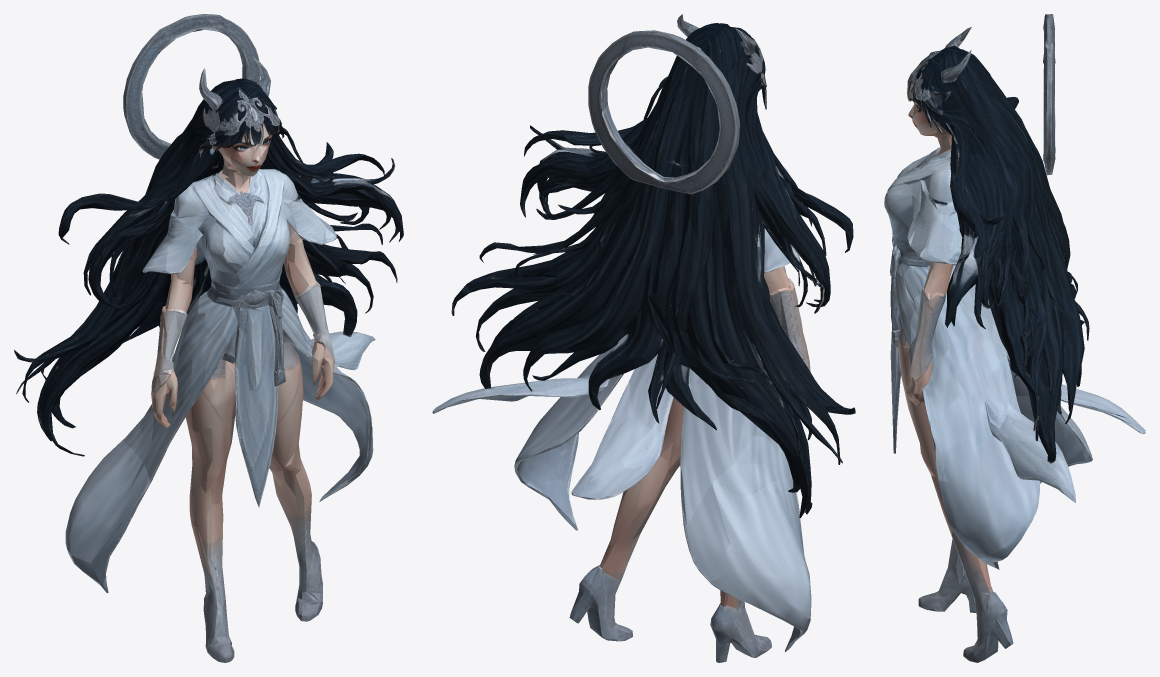
File: mayari.glb
3 renders of one model, left to right at view 1: azimuth 30°, elevation 25°; view 2: azimuth 150°, elevation 25°; view 3: azimuth 270°, elevation 25°, orthographic. The views are drawn at different scales.
Visible parts, largest first — view 1: mesh_node; view 2: mesh_node; view 3: mesh_node.
Part boxes in pixels (x1,y1,x2,y2): mesh_node: [14, 14, 403, 662]; mesh_node: [432, 14, 855, 662]; mesh_node: [884, 14, 1145, 662].
Bounding box in the file's own units: 1.26 × 1.9 × 0.7541.
1 material, 1 textured.
